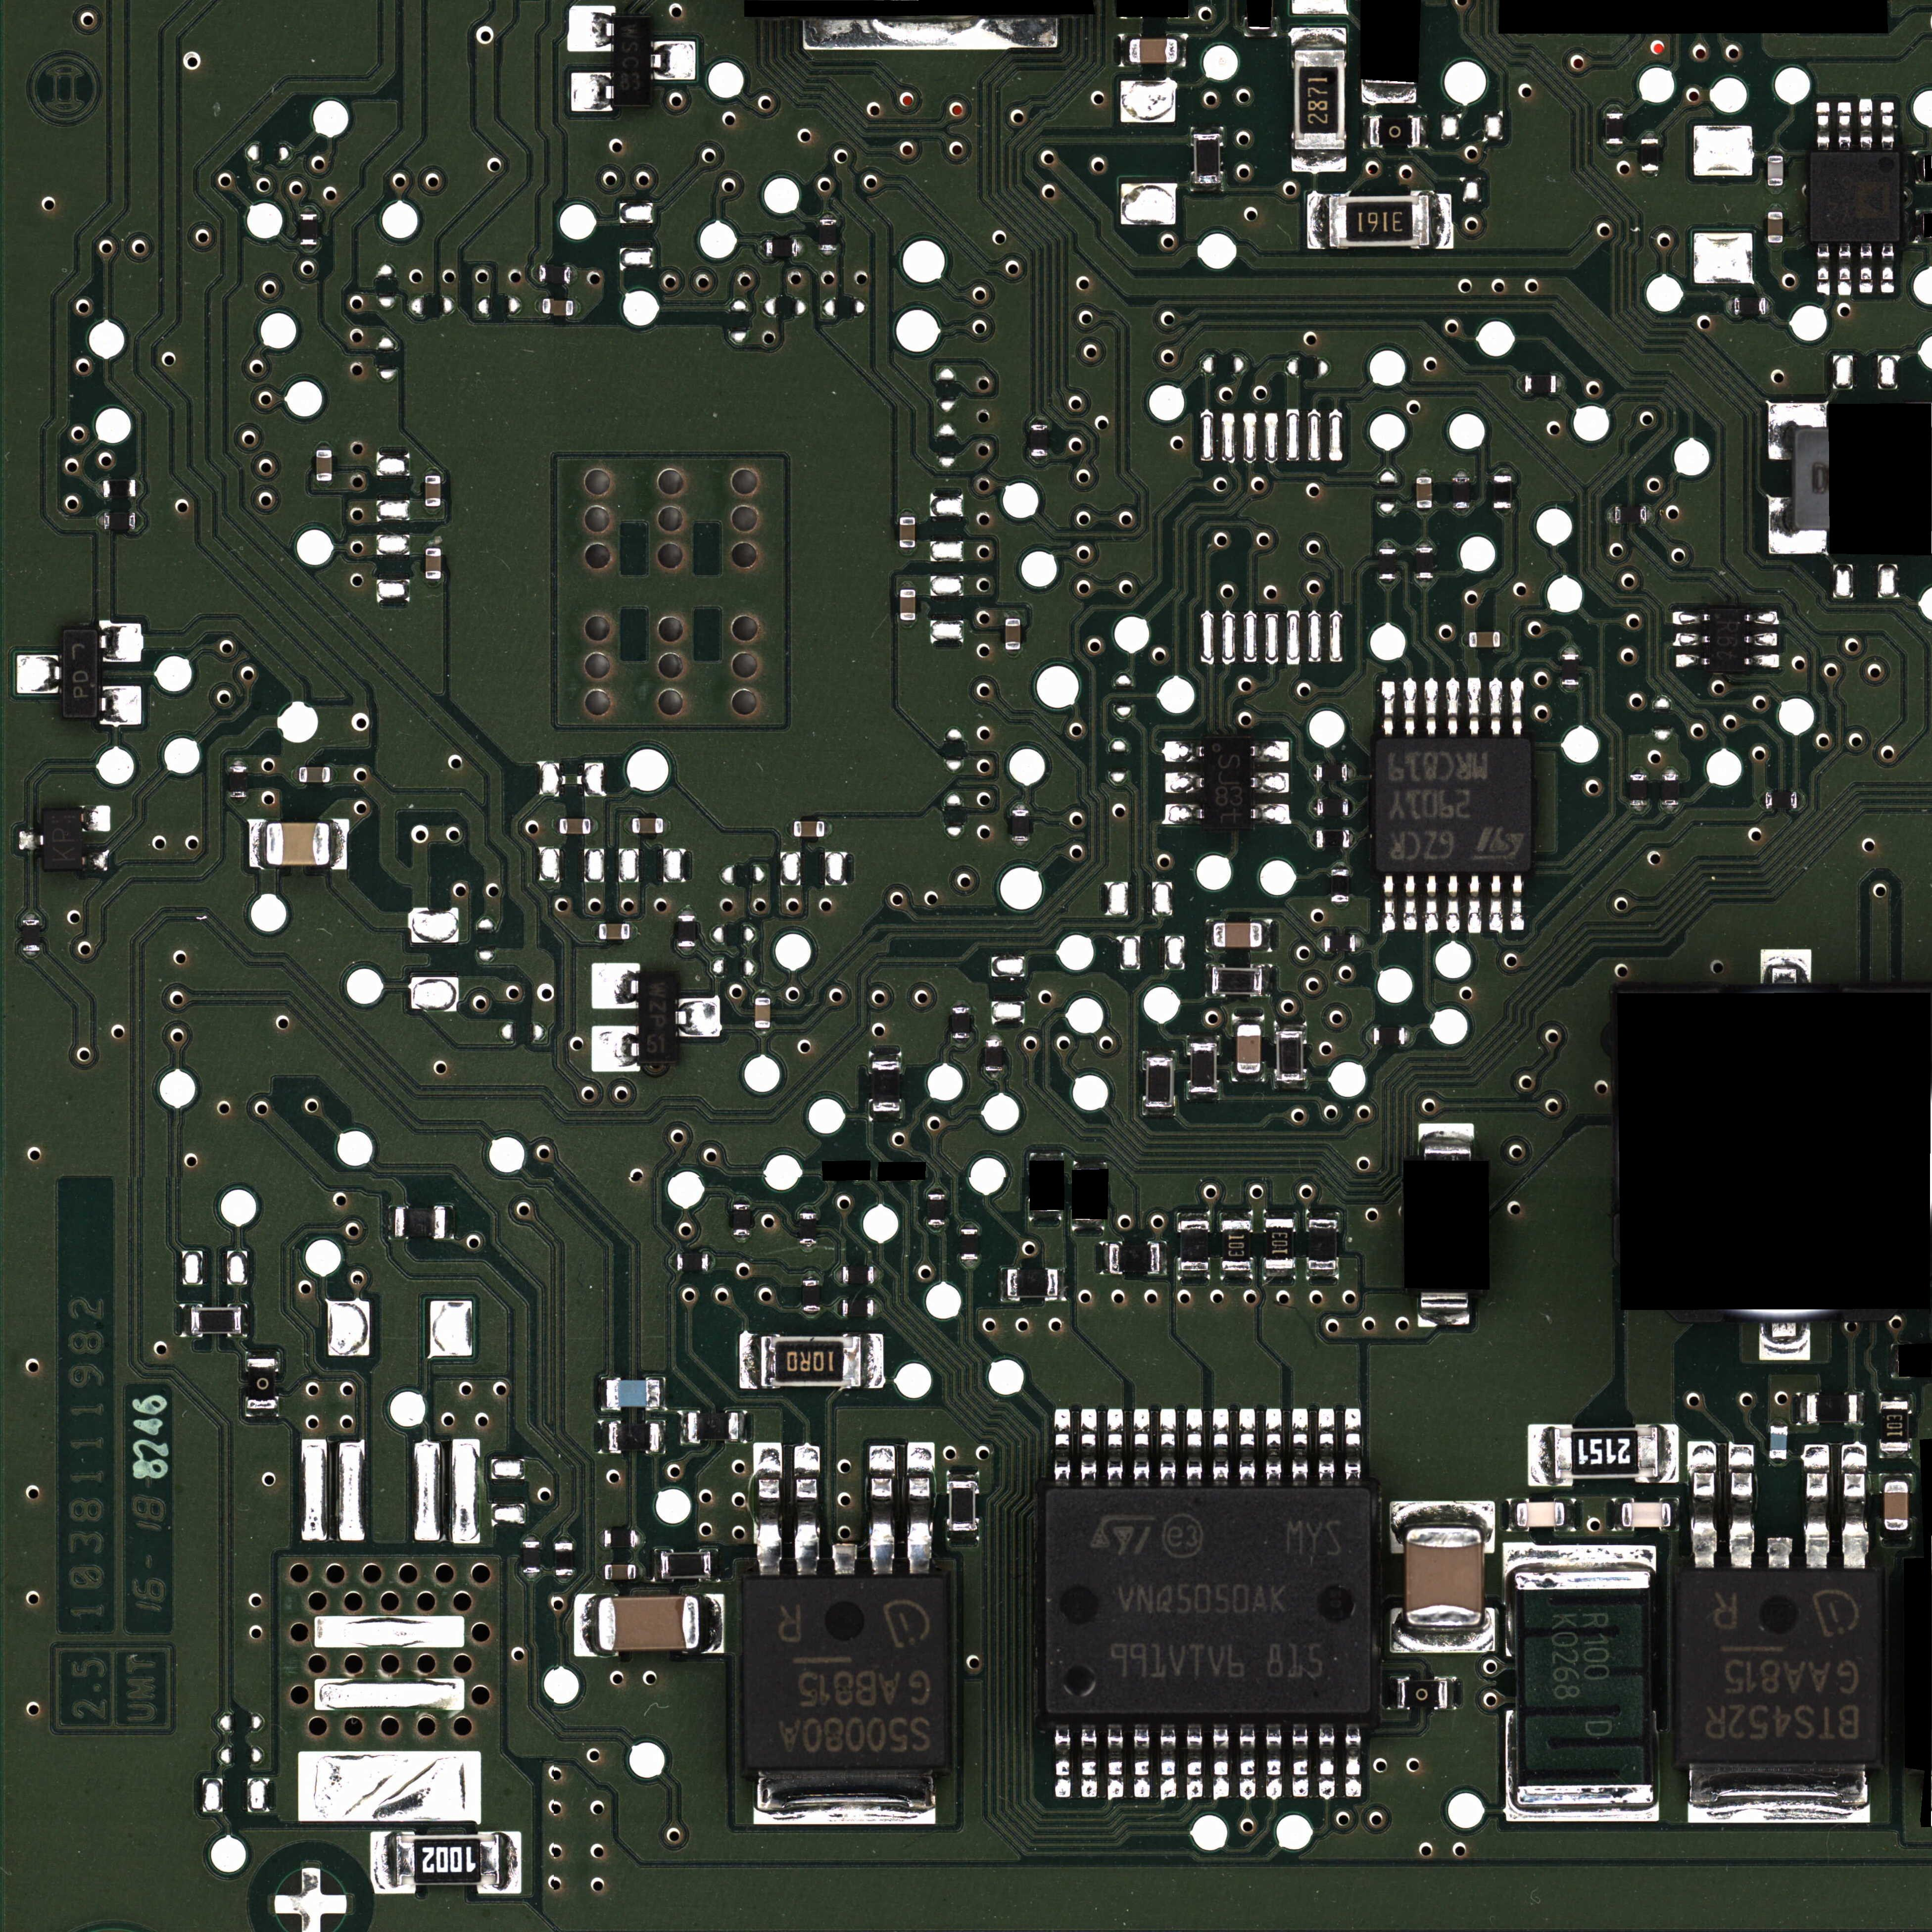Package: (1044, 1488, 1371, 1714), (743, 1579, 946, 1768), (1678, 1571, 1879, 1763), (1514, 1572, 1650, 1800), (1374, 737, 1533, 874), (1810, 151, 1901, 241), (1403, 1528, 1484, 1626), (598, 1596, 700, 1650), (1554, 1427, 1657, 1480), (396, 1834, 499, 1885), (760, 1336, 862, 1387), (1294, 49, 1345, 150), (1328, 196, 1430, 246), (1204, 738, 1251, 828), (639, 974, 676, 1062), (62, 629, 98, 718), (615, 17, 650, 105), (266, 823, 330, 865), (43, 809, 82, 870), (1709, 608, 1745, 671), (394, 1207, 445, 1238), (606, 1380, 660, 1408), (1007, 1269, 1058, 1298), (688, 1412, 739, 1441), (1110, 1243, 1159, 1272), (1807, 1395, 1857, 1423), (1370, 117, 1420, 146), (247, 1358, 276, 1408), (1398, 1680, 1448, 1708), (1222, 1220, 1251, 1270), (609, 1423, 659, 1451), (1265, 1219, 1294, 1268), (1881, 1401, 1909, 1451), (872, 1061, 900, 1111), (1180, 1220, 1208, 1270), (1309, 1219, 1337, 1269), (949, 1481, 976, 1531), (1212, 968, 1262, 994), (1190, 1043, 1216, 1093), (1194, 134, 1220, 184), (1146, 1058, 1172, 1107), (1277, 1031, 1303, 1080), (661, 1552, 711, 1578), (191, 1308, 241, 1333), (1214, 922, 1262, 948), (1884, 1481, 1908, 1531), (1622, 1502, 1671, 1527), (1237, 1024, 1261, 1073), (1517, 1502, 1564, 1527), (1129, 39, 1177, 63), (1493, 476, 1512, 508), (1770, 1426, 1787, 1459), (555, 1543, 573, 1575), (1316, 830, 1349, 848), (1641, 139, 1659, 170), (802, 1280, 821, 1311), (677, 916, 696, 947), (1605, 113, 1624, 144), (1030, 424, 1048, 456), (604, 1530, 636, 1547), (843, 1266, 874, 1284), (1012, 810, 1029, 841), (1525, 375, 1556, 393), (1374, 1027, 1405, 1045), (843, 1299, 874, 1317), (767, 239, 798, 257), (1630, 774, 1647, 806), (1452, 477, 1470, 508), (952, 1008, 970, 1038), (522, 1542, 540, 1573), (1735, 297, 1765, 315), (961, 1229, 978, 1259), (927, 1194, 945, 1225), (1332, 869, 1349, 902), (733, 1204, 750, 1235), (820, 219, 837, 250), (677, 1254, 708, 1271), (799, 1213, 817, 1244), (985, 1040, 1003, 1070), (1615, 507, 1646, 524), (1416, 547, 1433, 578), (1316, 764, 1347, 781), (1317, 799, 1348, 816), (1379, 548, 1396, 579), (1662, 774, 1679, 805), (1766, 792, 1797, 809), (299, 214, 317, 244), (1324, 934, 1355, 951), (1562, 654, 1579, 685), (230, 766, 246, 797), (900, 518, 916, 548), (599, 923, 630, 939), (299, 767, 330, 782), (1416, 477, 1432, 508), (1469, 631, 1500, 647), (794, 821, 824, 837), (900, 589, 916, 620), (1005, 619, 1020, 650), (605, 1564, 636, 1580), (317, 450, 332, 481), (1768, 211, 1783, 242), (426, 476, 441, 507), (24, 919, 39, 951), (1767, 155, 1783, 186), (560, 819, 590, 834), (632, 818, 663, 833), (426, 548, 441, 579), (755, 998, 771, 1028)
Solder: (1688, 1763, 1870, 1824), (753, 1769, 936, 1826), (803, 21, 1059, 49), (1502, 1545, 1657, 1572), (1767, 400, 1830, 460), (907, 1442, 935, 1574), (1689, 1442, 1717, 1570), (755, 1443, 782, 1577), (1769, 496, 1827, 555), (869, 1445, 895, 1575), (794, 1445, 820, 1576), (1728, 1444, 1754, 1570), (1804, 1444, 1830, 1569), (1842, 1446, 1868, 1569), (1503, 1802, 1659, 1822), (1392, 1627, 1495, 1654), (1390, 1501, 1495, 1527), (592, 963, 638, 1009), (592, 1026, 638, 1071), (1418, 1123, 1475, 1160), (569, 6, 614, 51), (1759, 1322, 1810, 1360), (1418, 1293, 1471, 1327), (677, 998, 721, 1037), (651, 41, 696, 80), (16, 655, 61, 693), (1760, 949, 1812, 982), (99, 623, 143, 662), (99, 686, 141, 725), (572, 73, 613, 111), (1528, 1425, 1554, 1486), (371, 1831, 395, 1893), (701, 1594, 724, 1654), (575, 1594, 597, 1657), (1133, 1408, 1151, 1485), (1344, 1408, 1361, 1486), (1318, 1408, 1335, 1486), (1080, 1408, 1098, 1486), (1159, 1408, 1177, 1485), (1239, 1408, 1256, 1487), (1265, 1408, 1282, 1487), (1292, 1408, 1308, 1486), (1212, 1408, 1229, 1486), (500, 1831, 521, 1893), (1133, 1724, 1151, 1798), (1186, 1408, 1203, 1485), (1080, 1724, 1098, 1798), (1107, 1408, 1123, 1485), (1213, 1723, 1230, 1799), (1160, 1724, 1177, 1800), (1054, 1409, 1071, 1485), (1318, 1723, 1335, 1799), (1055, 1724, 1071, 1798), (1240, 1724, 1256, 1799), (1187, 1724, 1203, 1799), (1266, 1724, 1282, 1799), (1108, 1724, 1124, 1799), (1430, 193, 1452, 249), (862, 1333, 884, 1389), (1290, 27, 1347, 49), (1292, 1725, 1308, 1797), (1345, 1724, 1361, 1797), (1292, 151, 1347, 173), (1658, 1425, 1679, 1483), (1307, 193, 1328, 249), (739, 1333, 760, 1389), (1361, 86, 1416, 103), (1163, 741, 1203, 762), (331, 820, 347, 869), (1489, 875, 1503, 932), (1468, 875, 1482, 934), (1767, 1537, 1792, 1568), (1164, 804, 1204, 824), (1251, 804, 1290, 824), (1165, 772, 1204, 793), (1251, 741, 1289, 762), (1251, 772, 1289, 793), (1403, 677, 1416, 736), (1446, 676, 1459, 735), (831, 1544, 857, 1575), (1447, 874, 1460, 933), (1468, 677, 1481, 735), (1425, 677, 1438, 735), (249, 820, 266, 868), (1382, 680, 1396, 736), (1382, 875, 1396, 933), (1425, 875, 1438, 932), (82, 805, 110, 831), (1403, 875, 1417, 931), (1510, 875, 1524, 931), (1490, 677, 1502, 736), (1511, 677, 1523, 737), (1817, 244, 1831, 295), (1859, 243, 1873, 294), (1881, 244, 1894, 293), (1881, 101, 1894, 150), (1860, 101, 1874, 150), (1839, 245, 1852, 295), (1816, 102, 1830, 150), (1837, 102, 1851, 149), (82, 851, 108, 871), (1672, 611, 1709, 625), (19, 830, 43, 850), (1674, 633, 1708, 646), (1745, 654, 1779, 668), (1676, 654, 1708, 667), (1745, 611, 1778, 624), (1745, 632, 1777, 646), (1386, 1678, 1397, 1710), (598, 1421, 609, 1453), (1565, 1498, 1575, 1532), (1448, 1677, 1457, 1709), (1202, 964, 1212, 996), (181, 1304, 191, 1336), (1119, 35, 1129, 66), (1263, 1269, 1296, 1278), (1262, 919, 1272, 951), (711, 1549, 721, 1581), (1262, 965, 1272, 996), (1306, 1210, 1340, 1219), (1177, 35, 1187, 66), (445, 1205, 454, 1240), (1072, 1160, 1107, 1168), (245, 1408, 278, 1417), (947, 1472, 979, 1481), (947, 1532, 979, 1541), (1672, 1497, 1681, 1529), (869, 1052, 901, 1061), (1220, 1211, 1253, 1220), (1306, 1270, 1339, 1279), (651, 1549, 660, 1581), (1264, 1209, 1296, 1218), (1232, 1015, 1264, 1024), (869, 1111, 902, 1120), (739, 1410, 747, 1443), (1191, 184, 1223, 192), (1613, 1499, 1622, 1532), (1508, 1498, 1516, 1531), (1275, 1021, 1305, 1030), (1177, 1270, 1209, 1279), (1205, 919, 1213, 951), (1178, 1211, 1210, 1220), (680, 1410, 687, 1446), (1072, 1221, 1105, 1229), (1880, 1473, 1911, 1481), (1221, 1270, 1253, 1279), (1880, 1393, 1911, 1401), (1881, 1533, 1913, 1541), (1275, 1081, 1306, 1089), (1880, 1451, 1912, 1459), (1420, 115, 1428, 147), (246, 1350, 278, 1358), (1361, 115, 1369, 147), (1915, 152, 1924, 182), (1144, 1108, 1175, 1115), (659, 1421, 667, 1453), (1244, 30, 1278, 37), (1031, 1212, 1061, 1220), (1187, 1035, 1219, 1043), (1187, 1094, 1219, 1102), (1916, 211, 1923, 243), (1234, 1073, 1263, 1081), (1032, 1152, 1062, 1160), (1143, 1050, 1174, 1057), (1891, 1345, 1898, 1378), (1058, 1268, 1065, 1301), (1191, 126, 1223, 133), (1858, 1393, 1865, 1425), (1800, 1393, 1807, 1425), (241, 1304, 248, 1336), (1160, 1243, 1167, 1276), (1101, 1242, 1108, 1273), (387, 1206, 393, 1240), (1001, 1268, 1007, 1301), (595, 1527, 603, 1550), (636, 1528, 644, 1550), (601, 1377, 606, 1411), (661, 1377, 666, 1410), (1606, 506, 1614, 524), (678, 948, 696, 956), (554, 1575, 574, 1582), (553, 1536, 575, 1543), (678, 908, 696, 916), (708, 1254, 716, 1271), (1647, 506, 1654, 524), (834, 1266, 842, 1284), (875, 1266, 882, 1284), (834, 1299, 842, 1317), (1308, 829, 1316, 847), (733, 1236, 750, 1243), (1797, 792, 1805, 810), (1758, 792, 1765, 810), (1309, 799, 1316, 817), (1518, 375, 1525, 394), (1769, 1459, 1787, 1466), (874, 1299, 881, 1317), (1348, 764, 1354, 781), (1500, 630, 1507, 648), (1629, 767, 1647, 774), (799, 1205, 817, 1212), (800, 1245, 818, 1252), (802, 1272, 820, 1279), (803, 1312, 821, 1319), (1349, 798, 1356, 816), (952, 1000, 969, 1007), (230, 759, 246, 766), (900, 549, 916, 556), (630, 923, 637, 939), (825, 820, 832, 836), (1031, 457, 1048, 464), (1557, 375, 1563, 393), (1012, 841, 1029, 848), (733, 1197, 750, 1204), (798, 239, 805, 256), (1770, 1418, 1787, 1425), (1308, 765, 1315, 782), (1350, 830, 1357, 848), (1641, 171, 1659, 177), (1415, 578, 1434, 584), (1728, 297, 1735, 316), (1561, 647, 1579, 654), (591, 924, 599, 940), (1031, 416, 1047, 424), (1641, 131, 1659, 138), (1605, 105, 1623, 112), (1011, 803, 1029, 809), (953, 1039, 970, 1046), (985, 1033, 1003, 1040), (927, 1187, 945, 1193), (927, 1226, 945, 1232), (961, 1222, 978, 1228), (1462, 631, 1469, 648), (1767, 244, 1784, 251), (1005, 611, 1021, 618), (900, 581, 916, 588), (900, 621, 916, 628), (785, 821, 792, 837), (522, 1573, 541, 1579), (670, 1254, 676, 1271), (759, 240, 766, 257), (1662, 767, 1679, 773), (1662, 806, 1679, 813), (1630, 807, 1647, 813), (1332, 902, 1350, 909), (986, 1071, 1003, 1078), (961, 1260, 978, 1267), (1005, 650, 1021, 657), (900, 510, 916, 517), (1415, 541, 1433, 547), (1379, 580, 1397, 586), (1378, 541, 1397, 547), (1561, 686, 1580, 692), (1318, 935, 1324, 952), (754, 991, 771, 997), (1405, 1027, 1412, 1044), (1367, 1028, 1373, 1045), (231, 797, 246, 804), (1605, 145, 1623, 151), (522, 1536, 541, 1541), (1768, 186, 1784, 193), (1766, 203, 1783, 210), (1332, 862, 1349, 868), (1767, 148, 1783, 155), (754, 1028, 771, 1034), (1356, 935, 1362, 952), (426, 469, 441, 475), (425, 541, 440, 547), (1766, 298, 1771, 316), (300, 245, 317, 251), (820, 213, 835, 219), (821, 251, 836, 257), (317, 443, 331, 449), (317, 482, 332, 487), (426, 508, 441, 514), (426, 580, 441, 585), (24, 951, 39, 957), (301, 207, 315, 214), (292, 767, 298, 783), (331, 767, 337, 783), (1416, 472, 1432, 478), (664, 818, 669, 833), (591, 818, 596, 834), (554, 818, 559, 834), (1494, 471, 1511, 476), (600, 1564, 605, 1580), (627, 818, 631, 834), (24, 914, 38, 919), (1494, 508, 1511, 512), (1452, 508, 1470, 512), (636, 1564, 641, 1580), (1452, 473, 1470, 476), (1416, 508, 1433, 512)
